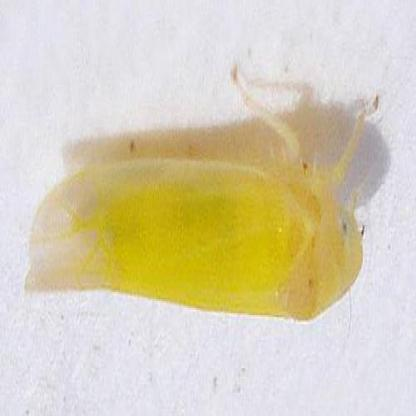green-leafhopper: (26, 60, 380, 318)
